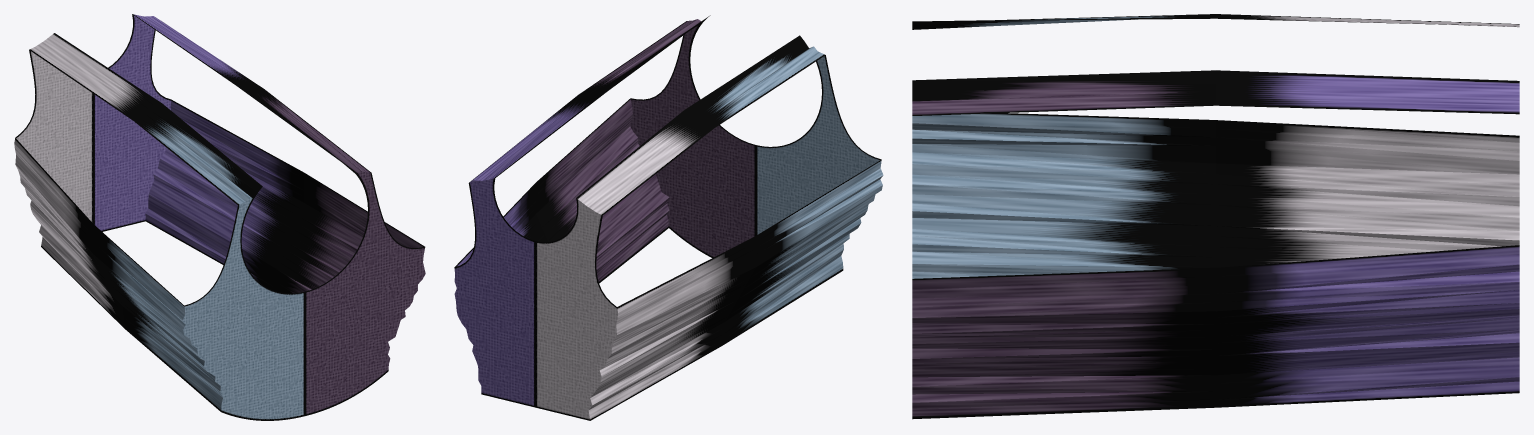
File: tank_knit2_boxmesh.obj
3 renders of one model, left to right at view 1: azimuth 30°, elevation 25°; view 2: azimuth 150°, elevation 25°; view 3: azimuth 270°, elevation 25°, orthographic. The views are drawn at different scales.
Size of the model in its own units: 36.51 by 35.07 by 55.
1 material, 1 textured.
